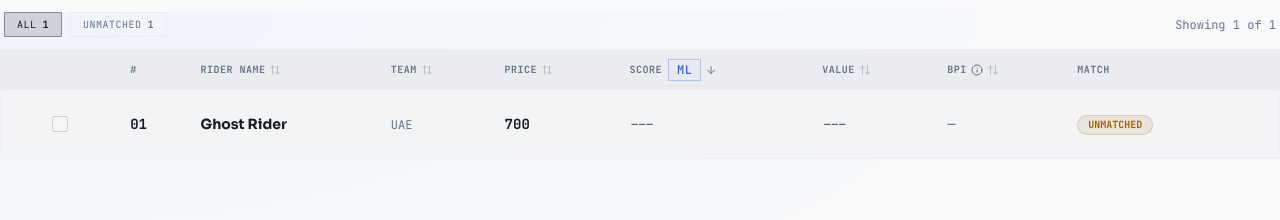
Test: RiderTable › shows "no match" message for expanded unmatched rider
Step 1. Click the text "Ghost Rider" → click(244, 124), box [200, 114, 287, 134]
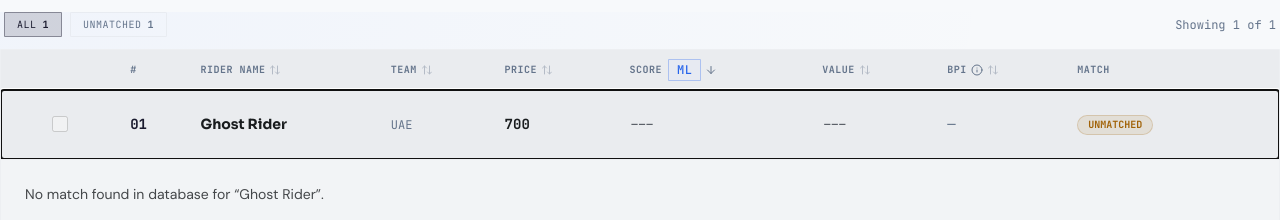
Check: the text "No match found in database for “Ghost Rider”." is shown, box [25, 185, 324, 203]
